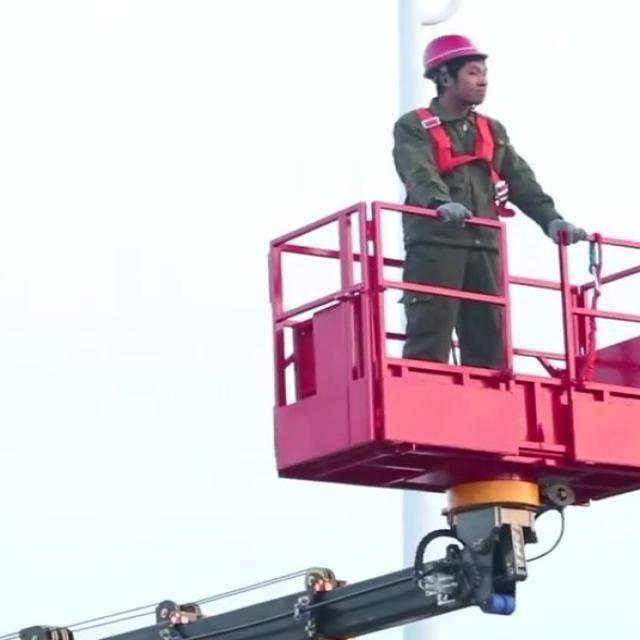Arnes_seguridad: (397, 101, 503, 195)
